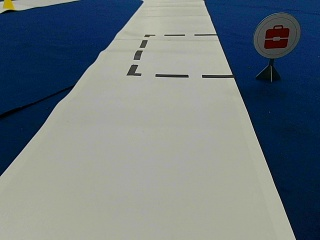company: (254, 13, 300, 57)
